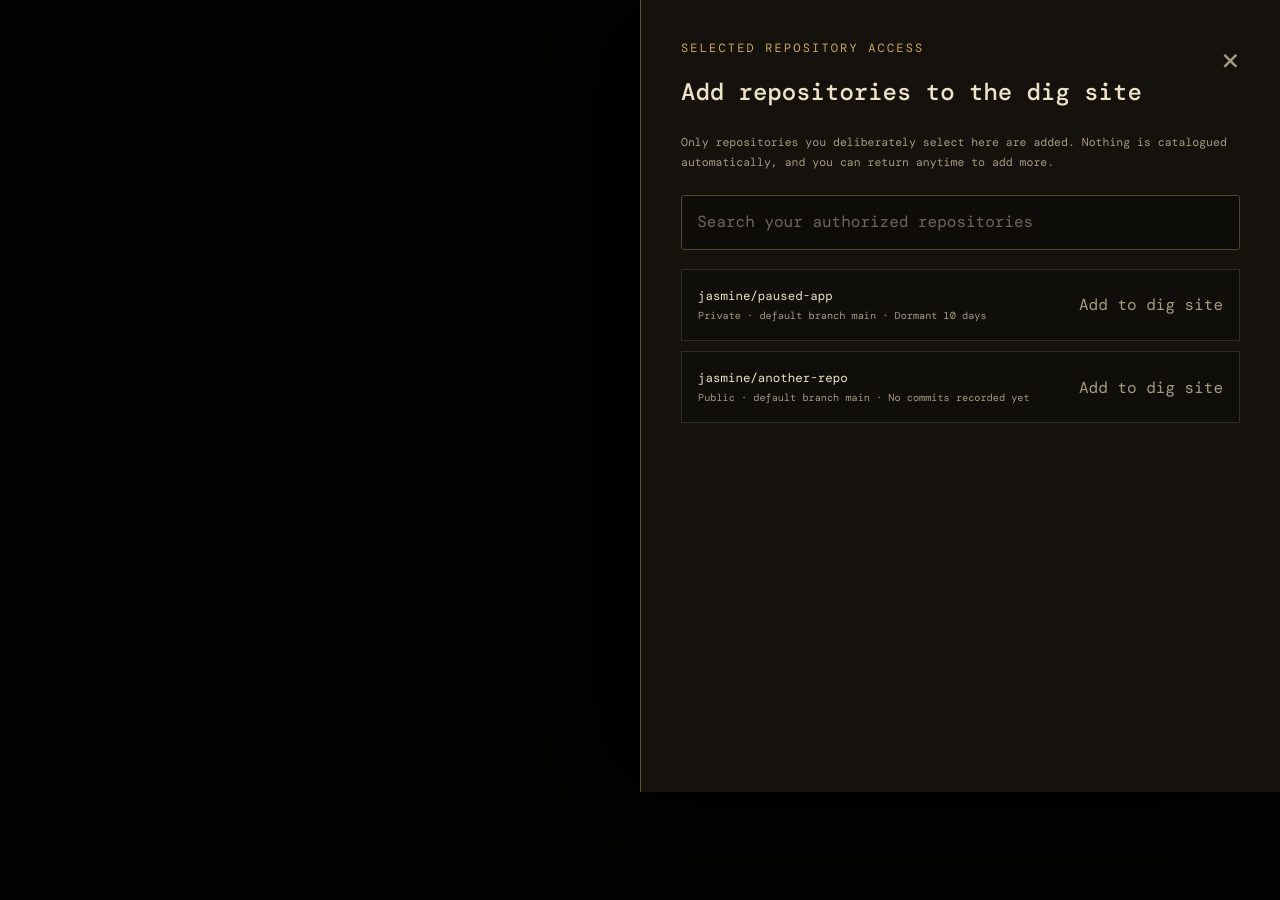
RepositoryPicker › filters the list by search query
Expected: the text "jasmine/paused-app" is shown, [698, 288, 833, 304]
Expected: the text "jasmine/another-repo" is shown, [698, 370, 848, 386]
Type "paused" into the search field named "Search authorized repositories" at (960, 222), box [681, 195, 1240, 250]
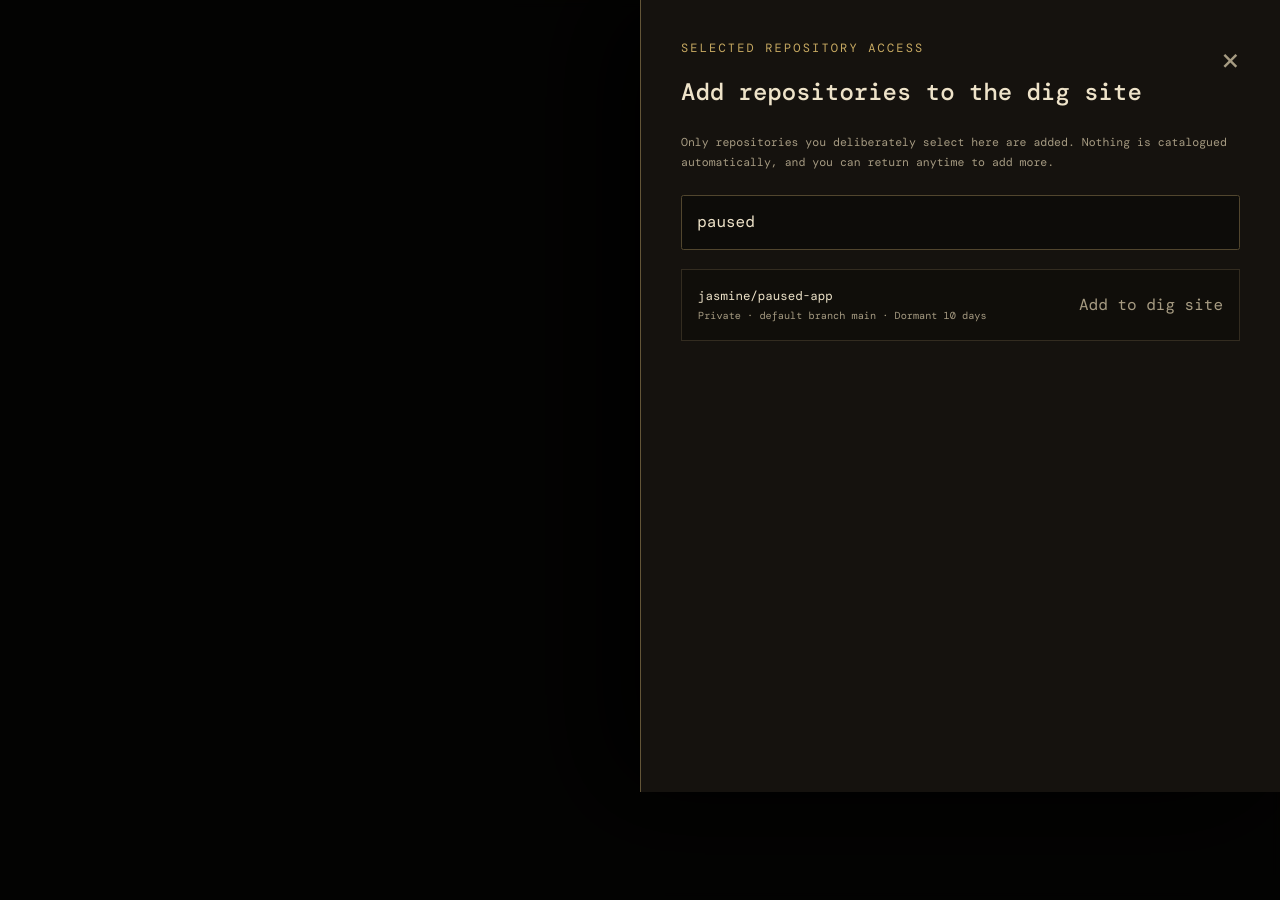
Expected: the text "jasmine/paused-app" is shown, [698, 288, 833, 304]
Expected: the text "jasmine/another-repo" is gone
